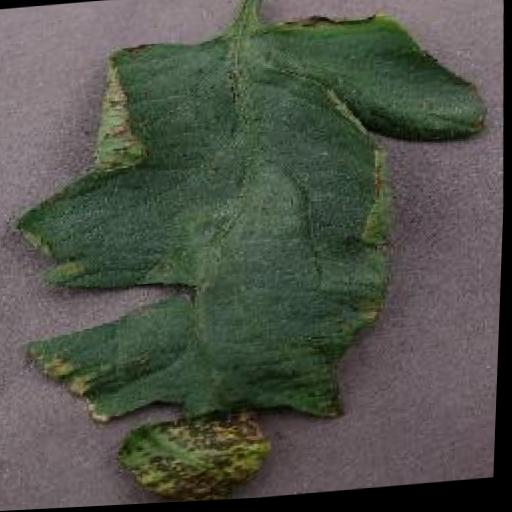Bacterial Spot: (0, 2, 509, 512)
